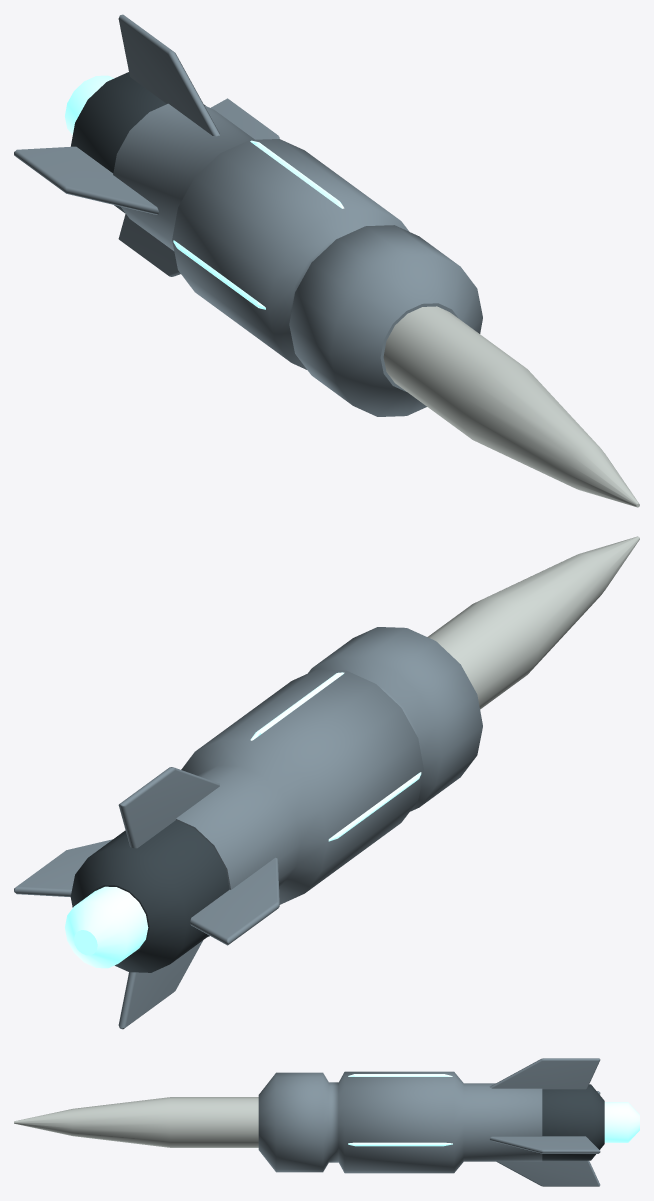
The model's file is rail.glb.
The picture shows the model from 3 angles, top to bottom: view 1: azimuth 30°, elevation 25°; view 2: azimuth 150°, elevation 25°; view 3: azimuth 270°, elevation 25°; orthographic projection. The views are drawn at different scales.
Visible parts, largest first — view 1: rail / Machined titanium, rail / Ivory ceramic, rail / Carbon ceramic, rail / Ion exhaust; view 2: rail / Machined titanium, rail / Ivory ceramic, rail / Carbon ceramic, rail / Ion exhaust; view 3: rail / Machined titanium, rail / Ivory ceramic, rail / Carbon ceramic, rail / Ion exhaust.
Part boxes in pixels (bbox=[...]): rail / Machined titanium: bbox=[14, 14, 482, 416]; rail / Ivory ceramic: bbox=[383, 306, 639, 507]; rail / Carbon ceramic: bbox=[71, 72, 205, 213]; rail / Ion exhaust: bbox=[65, 75, 344, 309]; rail / Machined titanium: bbox=[14, 627, 482, 1029]; rail / Ivory ceramic: bbox=[427, 536, 639, 709]; rail / Carbon ceramic: bbox=[70, 820, 229, 972]; rail / Ion exhaust: bbox=[65, 672, 421, 968]; rail / Machined titanium: bbox=[258, 1058, 600, 1186]; rail / Ivory ceramic: bbox=[14, 1097, 258, 1147]; rail / Carbon ceramic: bbox=[542, 1084, 604, 1160]; rail / Ion exhaust: bbox=[348, 1074, 639, 1146].
Bounding box in the file's own units: 7.2 × 7.2 × 32.
